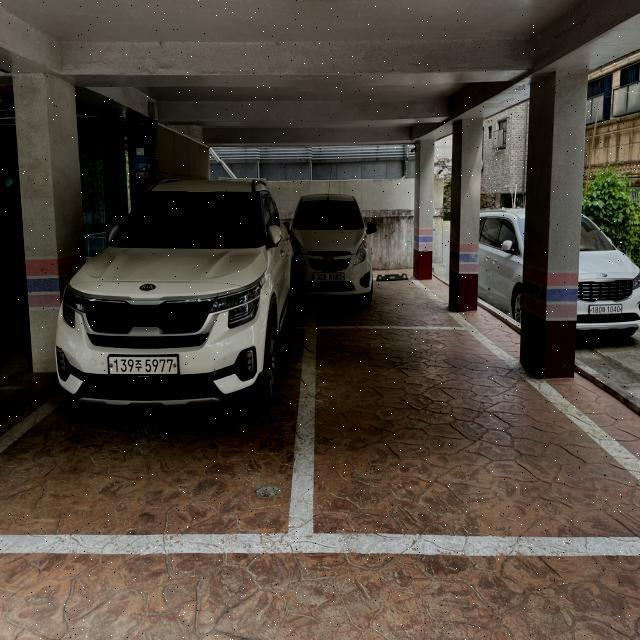Car: (35, 164, 298, 440)
Vacant: (285, 330, 636, 544)
